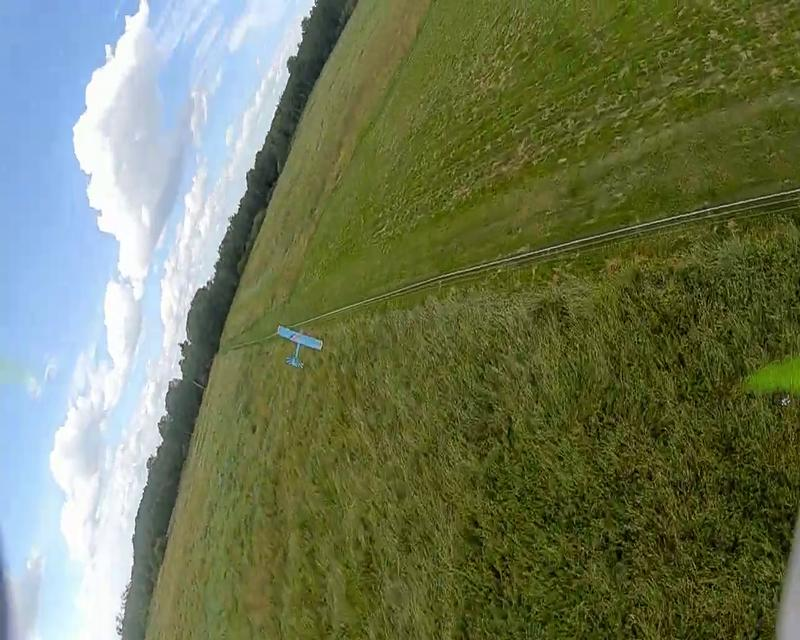UAV: (276, 326, 324, 369)
